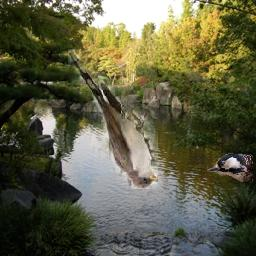Cuckoo: (68, 49, 158, 189)
Woodpecker: (207, 151, 253, 184)
